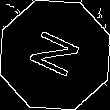N_SE: (23, 26, 87, 84)
